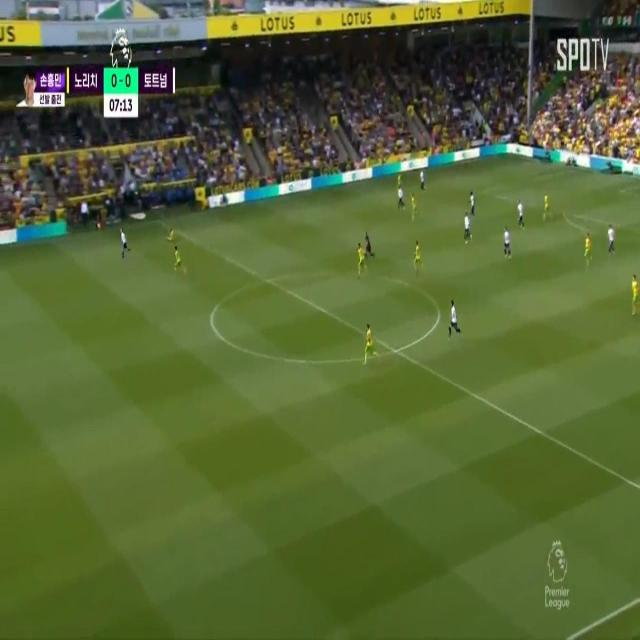player: (364, 323, 374, 361), (631, 275, 640, 315), (606, 222, 616, 256), (449, 300, 458, 332), (462, 210, 470, 242), (503, 228, 511, 258), (516, 198, 524, 227), (358, 243, 366, 272), (585, 233, 592, 262), (173, 244, 180, 273), (414, 242, 420, 272), (411, 193, 416, 221), (469, 190, 475, 212), (419, 169, 425, 190), (398, 186, 403, 210), (544, 193, 548, 221), (168, 226, 176, 239), (398, 170, 401, 187)
referee: (120, 228, 128, 257), (365, 232, 371, 258)
